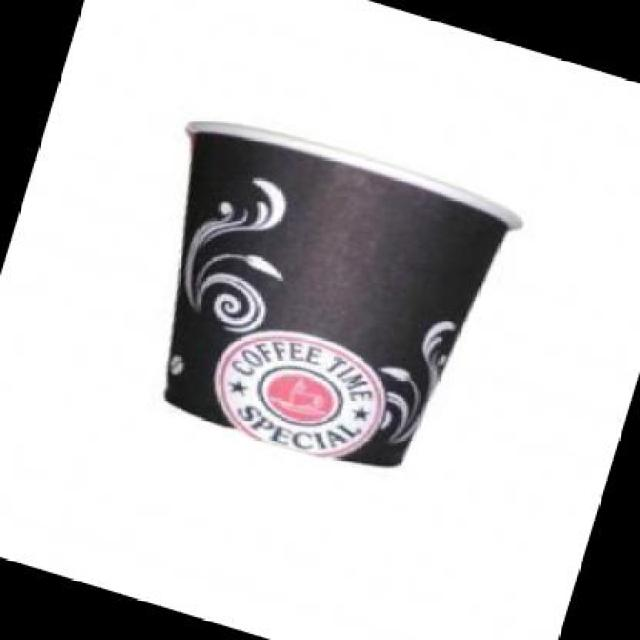non-biodegradable: (11, 42, 586, 544)
